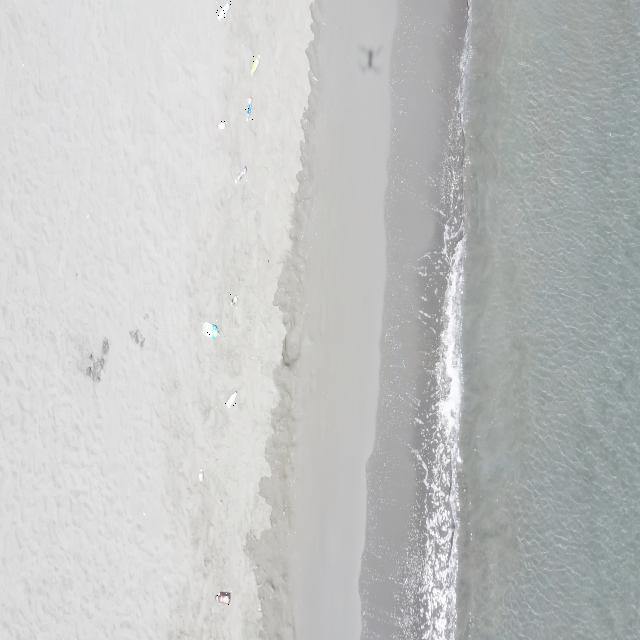Garbage: (84, 337, 108, 380), (216, 0, 230, 20), (128, 329, 143, 347), (201, 322, 219, 336), (249, 55, 260, 75), (224, 391, 236, 407), (235, 166, 246, 183), (244, 96, 252, 119), (216, 591, 230, 604), (228, 292, 236, 304), (216, 120, 224, 128), (199, 468, 203, 482)
